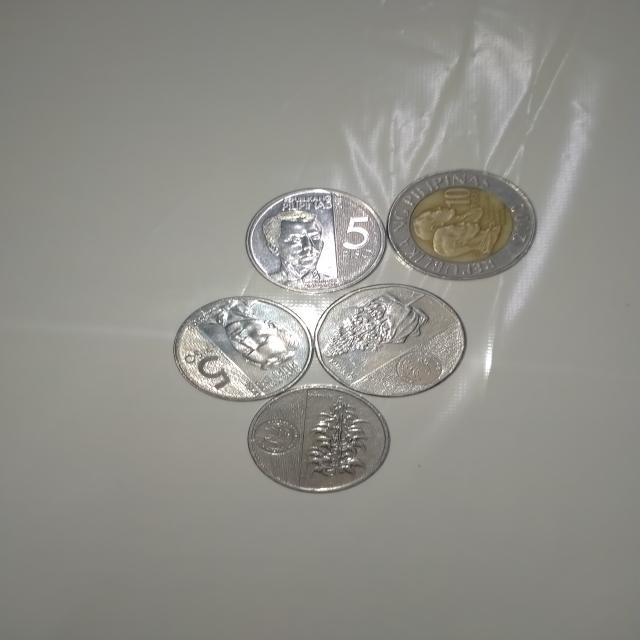10_New_Back: (318, 284, 450, 399)
10_Old_Front: (406, 180, 520, 268)
5_New_Front: (180, 293, 295, 397), (269, 192, 375, 290)
